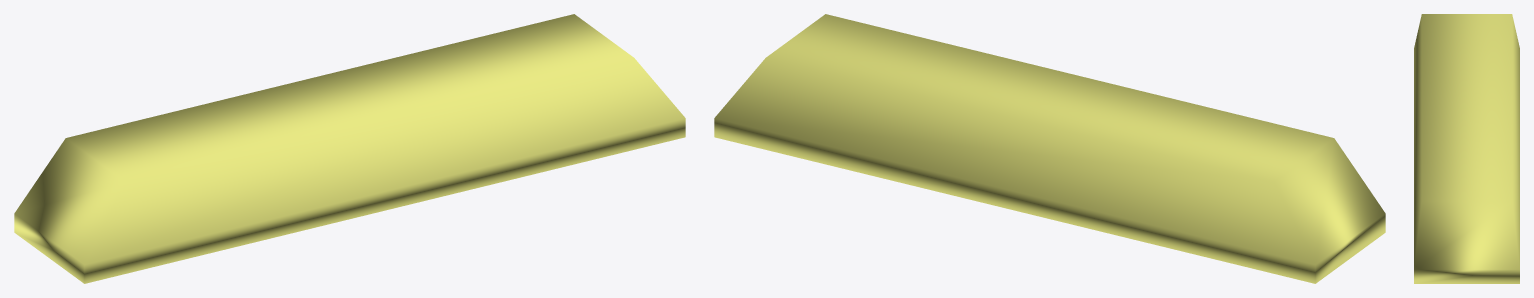
The model's file is Lingote.glb.
3 views of the same model, side by side, from view 1: azimuth 30°, elevation 25°; view 2: azimuth 150°, elevation 25°; view 3: azimuth 270°, elevation 25° (orthographic). The views are drawn at different scales.
Visible parts, largest first — view 1: pCube1; view 2: pCube1; view 3: pCube1.
Part boxes in pixels (x1,y1,x2,y2): pCube1: (14, 14, 685, 283); pCube1: (714, 14, 1385, 283); pCube1: (1414, 14, 1519, 283).
Bounding box in the file's own units: 0.694 × 0.096 × 0.1402.
